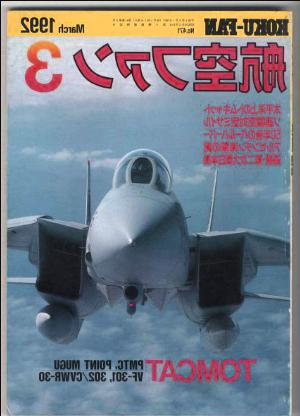EF2000: (6, 146, 290, 354)
